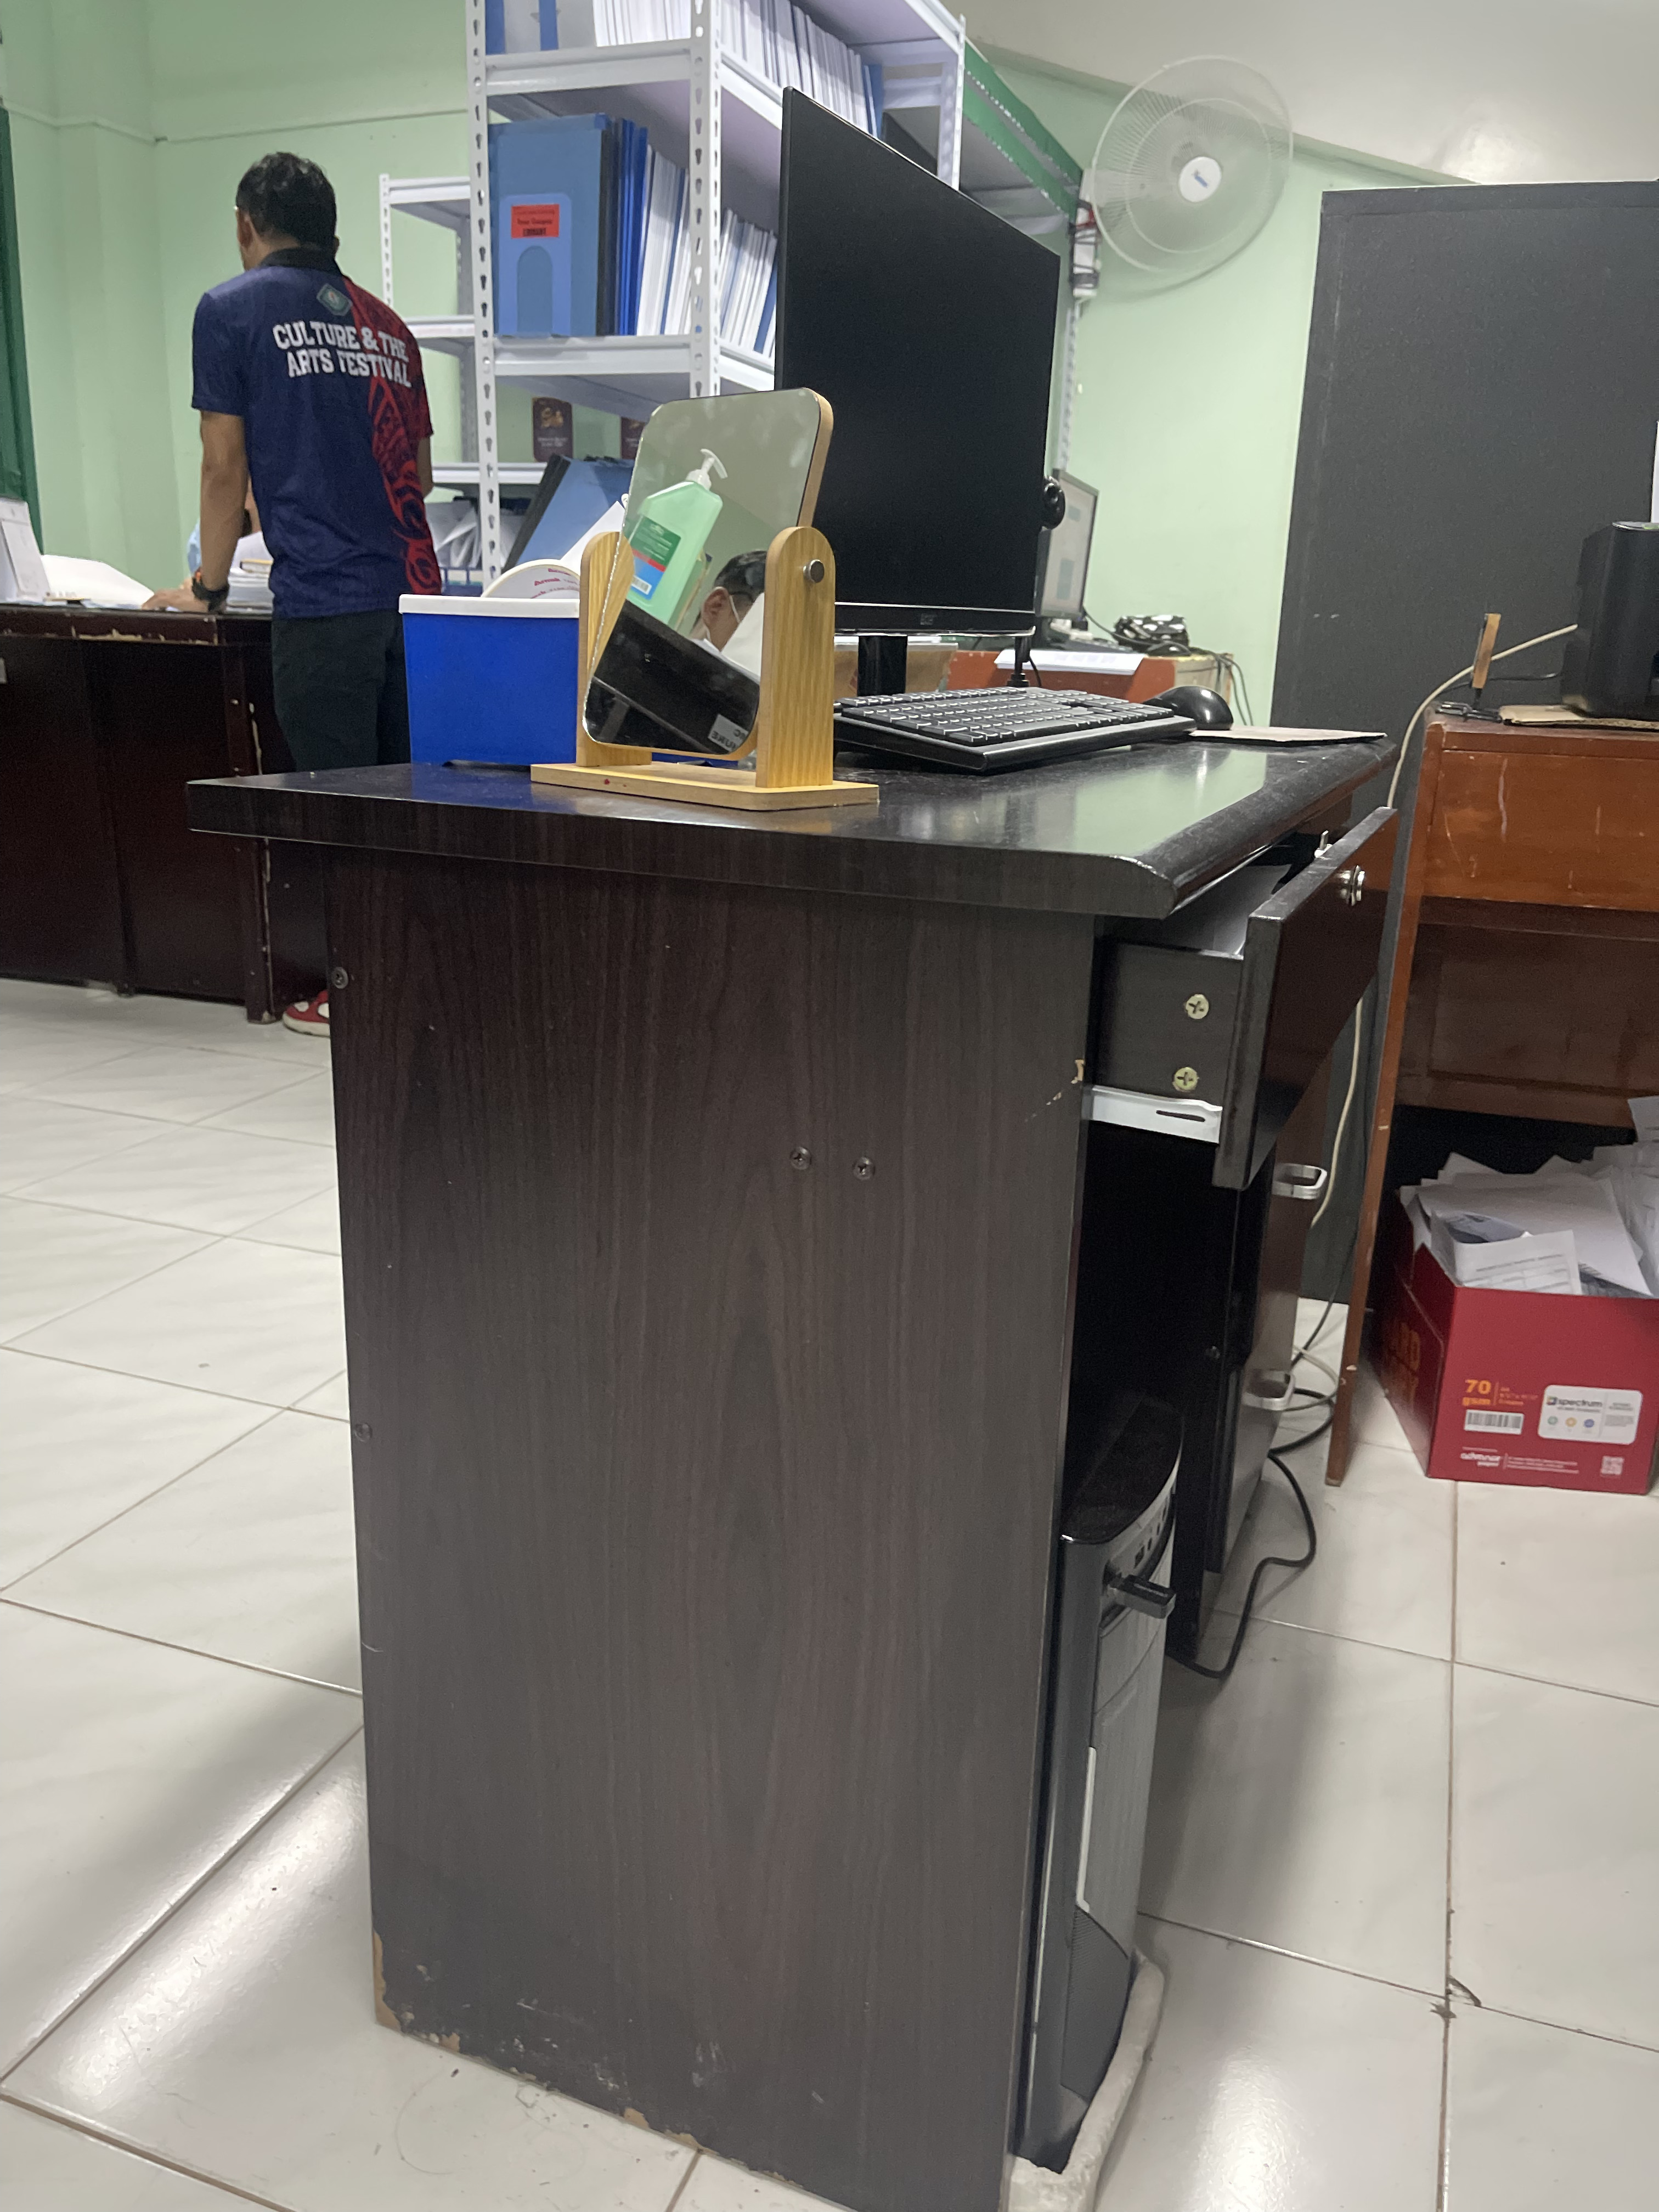table1: (176, 704, 1457, 2212)
